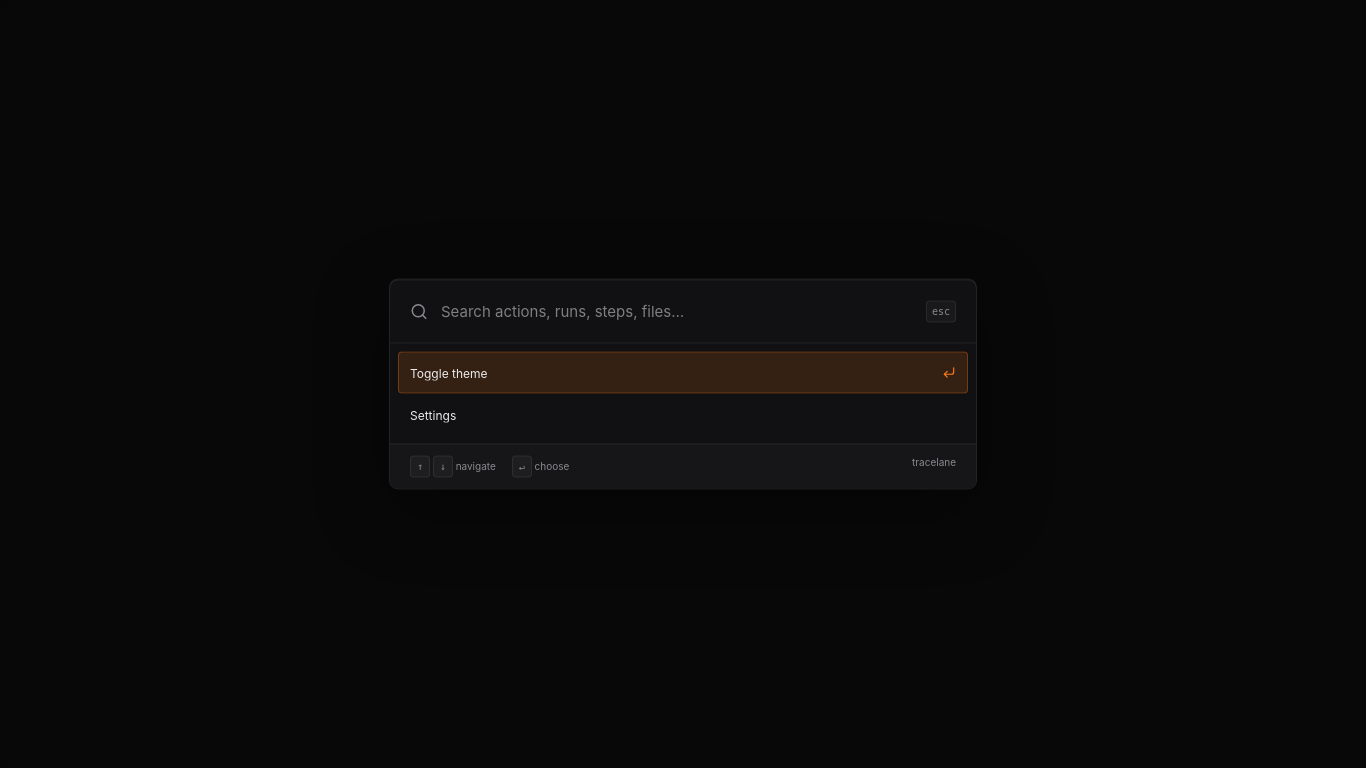
Test case: palette filters commands and executes the keyboard-selected result
Later steps or results of the test are not shown.
Type " DARK " into the dropdown. click: (677, 311)
box: [441,280,913,342]
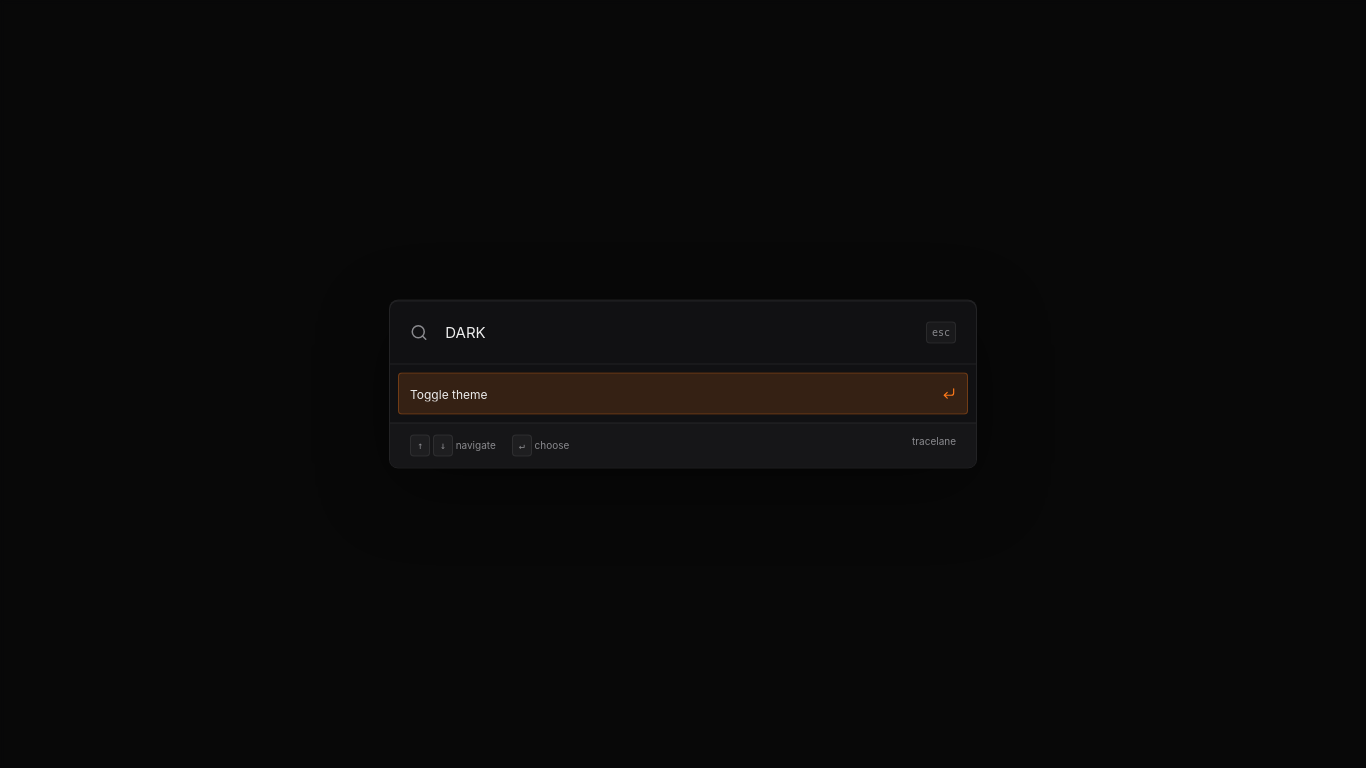
Check: the option "Settings" is gone
